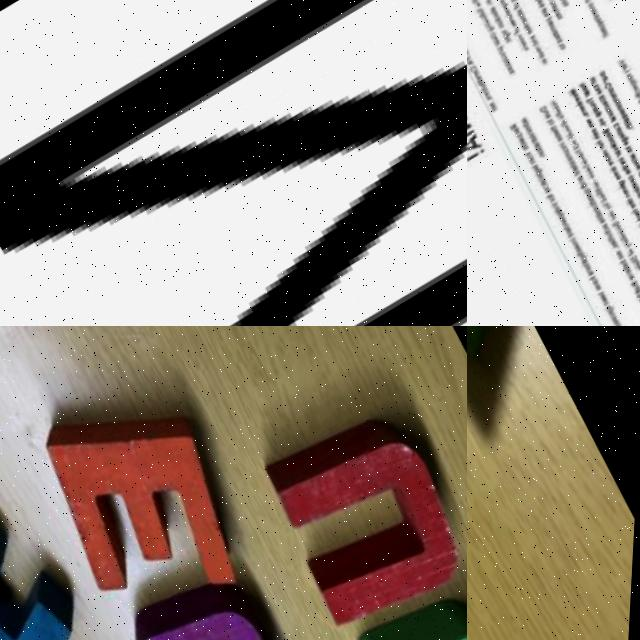A: (467, 134, 487, 161), (469, 60, 479, 69), (618, 151, 627, 160), (625, 119, 634, 127), (597, 281, 605, 289), (581, 178, 589, 186), (606, 226, 614, 234), (581, 155, 589, 163), (495, 41, 504, 48), (598, 213, 607, 220), (626, 241, 635, 248), (593, 131, 602, 138), (542, 8, 551, 15), (586, 92, 595, 99), (524, 120, 532, 127), (532, 35, 540, 42), (552, 6, 560, 13), (537, 144, 545, 150), (613, 118, 621, 124), (586, 261, 593, 267), (543, 181, 550, 187), (506, 11, 513, 17), (540, 53, 547, 59), (519, 11, 526, 17), (633, 156, 640, 162), (467, 44, 470, 52), (637, 214, 640, 221)
B: (586, 167, 596, 176), (606, 130, 615, 139), (549, 2, 558, 11), (601, 293, 611, 301), (579, 105, 589, 113), (624, 262, 633, 270), (600, 216, 609, 224), (519, 13, 527, 21), (607, 206, 615, 212)
C: (606, 85, 617, 94), (471, 66, 481, 75), (595, 182, 604, 190), (615, 125, 624, 133), (607, 229, 616, 236), (631, 177, 640, 184), (491, 33, 499, 40), (495, 16, 503, 23), (621, 231, 629, 238), (607, 107, 615, 114), (566, 149, 573, 155), (614, 143, 621, 149), (636, 90, 640, 98)
D: (603, 200, 614, 209), (602, 34, 613, 43), (566, 225, 575, 234), (534, 41, 543, 50), (558, 41, 567, 50), (524, 123, 534, 131), (543, 108, 552, 116), (570, 136, 579, 144), (584, 185, 592, 193), (467, 51, 474, 59), (558, 209, 566, 216)
E: (24, 377, 277, 640), (599, 288, 608, 296), (556, 132, 565, 140), (494, 12, 503, 20), (619, 179, 628, 187), (626, 192, 635, 200), (623, 66, 632, 74), (629, 77, 638, 85), (560, 212, 568, 220), (522, 139, 530, 147), (579, 246, 587, 254), (604, 221, 612, 229), (560, 138, 568, 146), (590, 196, 598, 204), (615, 243, 623, 251), (623, 257, 631, 265), (492, 7, 500, 15), (511, 20, 519, 28), (575, 95, 583, 103), (546, 14, 554, 22), (630, 173, 638, 181), (601, 98, 609, 106), (569, 229, 578, 236), (476, 4, 485, 11), (494, 38, 503, 45), (627, 267, 636, 274), (619, 228, 628, 235), (626, 144, 635, 151), (599, 92, 608, 99), (623, 116, 632, 123), (602, 31, 611, 38), (517, 129, 525, 136), (536, 168, 544, 175), (564, 219, 572, 226), (605, 296, 613, 303), (607, 300, 615, 307), (630, 272, 638, 279), (575, 168, 583, 175), (548, 115, 556, 122), (589, 170, 597, 177), (555, 104, 562, 112), (584, 162, 592, 169), (590, 173, 598, 180), (529, 30, 537, 37), (591, 127, 599, 134), (582, 109, 590, 116), (585, 88, 593, 95), (539, 1, 547, 8), (605, 103, 613, 110), (623, 137, 631, 144), (633, 278, 640, 285), (597, 185, 604, 192), (528, 28, 535, 35), (593, 12, 600, 19), (557, 38, 565, 44), (494, 106, 501, 112), (624, 237, 631, 243), (603, 197, 610, 203), (523, 44, 530, 50), (524, 20, 531, 26), (634, 207, 640, 214), (612, 164, 619, 170), (550, 22, 557, 28), (635, 87, 640, 94), (618, 322, 625, 326), (608, 0, 617, 3), (497, 0, 505, 2)
F: (598, 142, 608, 149), (550, 195, 558, 203), (632, 253, 640, 261), (516, 32, 524, 40), (515, 6, 523, 14), (477, 9, 485, 16), (528, 153, 536, 159), (634, 211, 640, 219), (601, 194, 608, 200), (593, 84, 600, 89), (636, 96, 640, 103)
G: (109, 553, 323, 640), (624, 139, 634, 148), (613, 309, 622, 318), (622, 182, 631, 191), (538, 170, 548, 178), (584, 257, 593, 265), (505, 34, 514, 41), (503, 3, 512, 10), (512, 0, 522, 5), (490, 29, 497, 35)
H: (628, 127, 639, 135), (564, 124, 573, 133), (578, 152, 588, 160), (581, 85, 591, 93), (594, 278, 603, 286), (473, 1, 482, 9), (631, 203, 640, 210), (598, 89, 606, 96), (507, 38, 514, 45), (627, 169, 634, 176), (555, 130, 562, 136), (636, 286, 640, 292)
I: (467, 130, 479, 145), (530, 135, 541, 143), (598, 191, 609, 199), (612, 242, 623, 249), (627, 270, 637, 277), (622, 186, 632, 193), (535, 0, 546, 6), (582, 255, 590, 262), (610, 307, 618, 314), (538, 149, 546, 156), (614, 171, 622, 178), (553, 31, 561, 38), (483, 90, 492, 96), (586, 265, 595, 271), (611, 238, 620, 244), (500, 3, 509, 9), (573, 239, 581, 245), (529, 131, 537, 137), (594, 204, 601, 210), (543, 60, 550, 66), (505, 59, 511, 65), (486, 24, 492, 30), (505, 33, 511, 39), (563, 144, 569, 150), (540, 175, 546, 181), (635, 189, 640, 196), (480, 82, 486, 87), (556, 204, 562, 209), (507, 64, 513, 69), (572, 162, 578, 167), (611, 235, 617, 240), (498, 20, 504, 25), (541, 56, 547, 61), (621, 160, 627, 165), (546, 0, 554, 2)
K: (0, 505, 130, 640), (597, 137, 606, 146), (614, 146, 621, 152)
L: (541, 179, 549, 186), (602, 219, 610, 226), (480, 15, 489, 21), (569, 135, 578, 141), (480, 14, 488, 20), (628, 269, 636, 275), (602, 102, 610, 108), (627, 123, 635, 129), (492, 36, 499, 42), (621, 135, 627, 141), (621, 133, 627, 139), (634, 159, 640, 165), (554, 11, 561, 16), (635, 160, 640, 167), (536, 166, 542, 171), (559, 114, 565, 119), (543, 57, 549, 62), (614, 122, 620, 127), (553, 10, 560, 14), (493, 11, 499, 15), (561, 0, 568, 3), (561, 0, 567, 1)
M: (0, 0, 467, 326), (571, 90, 582, 100), (605, 152, 614, 161), (537, 48, 546, 56), (617, 173, 625, 182), (596, 109, 605, 117), (487, 0, 495, 8), (578, 100, 586, 108), (613, 94, 621, 102), (532, 161, 541, 168), (528, 127, 536, 134), (616, 99, 623, 107), (554, 28, 561, 35), (636, 184, 640, 193)
N: (467, 116, 476, 139), (582, 181, 591, 189), (487, 92, 495, 100), (609, 303, 617, 311), (614, 313, 622, 321), (577, 171, 585, 179), (557, 206, 566, 213), (568, 155, 577, 162), (592, 177, 601, 184), (619, 108, 628, 115), (575, 242, 583, 249), (565, 223, 573, 230), (591, 270, 599, 277), (542, 154, 550, 161), (510, 68, 518, 75), (564, 146, 572, 153), (597, 209, 605, 216), (574, 142, 582, 149), (505, 8, 513, 15), (533, 39, 541, 46), (628, 196, 636, 203), (623, 161, 631, 168), (571, 233, 578, 240), (503, 29, 510, 36), (531, 133, 539, 139), (500, 25, 508, 31), (525, 23, 533, 29), (477, 73, 484, 79), (488, 26, 495, 31), (545, 63, 552, 68), (547, 0, 555, 4), (467, 48, 471, 55), (510, 0, 517, 2)
O: (611, 213, 620, 221), (631, 251, 640, 259), (553, 197, 561, 205), (590, 267, 598, 275), (596, 206, 604, 214), (515, 28, 523, 36), (609, 111, 617, 119), (610, 89, 618, 97), (545, 185, 554, 192), (551, 122, 560, 129), (498, 22, 507, 29), (575, 145, 584, 152), (601, 145, 610, 152), (611, 139, 620, 146), (592, 79, 601, 86), (619, 129, 628, 136), (630, 151, 639, 158), (475, 70, 483, 77), (531, 156, 539, 163), (483, 16, 491, 23), (480, 11, 488, 18), (567, 152, 575, 159), (519, 38, 527, 45), (514, 4, 522, 11), (609, 135, 617, 142), (602, 74, 610, 81), (618, 104, 626, 111), (589, 5, 597, 12), (502, 53, 509, 60), (568, 129, 575, 136), (609, 158, 616, 165), (598, 21, 605, 28), (615, 317, 623, 323), (508, 65, 516, 71), (562, 47, 570, 53), (555, 12, 563, 18), (486, 91, 493, 97), (541, 151, 548, 157), (634, 181, 640, 188), (563, 0, 570, 6), (636, 162, 640, 170)
P: (468, 56, 477, 64), (548, 18, 557, 26), (602, 26, 611, 34), (562, 216, 571, 223), (499, 47, 508, 54), (633, 83, 640, 92), (599, 114, 607, 121), (601, 23, 609, 30), (485, 0, 494, 2)
Q: (519, 131, 528, 140), (587, 190, 595, 197)
R: (513, 125, 523, 134), (615, 220, 622, 227), (621, 155, 628, 162), (545, 11, 552, 18), (629, 75, 636, 82), (612, 117, 620, 123), (585, 0, 594, 5), (617, 320, 624, 326), (623, 234, 630, 240), (524, 47, 531, 53), (511, 19, 518, 25), (584, 112, 591, 118), (603, 148, 610, 154), (589, 96, 596, 102), (551, 26, 558, 32), (606, 81, 613, 87), (594, 14, 601, 20), (610, 0, 618, 5), (554, 102, 560, 108), (501, 51, 508, 56), (626, 70, 633, 75), (548, 190, 554, 195), (555, 201, 561, 206), (498, 45, 504, 50), (599, 188, 605, 193), (629, 246, 635, 251), (593, 103, 599, 108), (530, 155, 535, 160), (537, 143, 542, 147), (611, 163, 616, 167), (536, 0, 543, 2)
S: (616, 223, 625, 232), (510, 71, 519, 79), (563, 121, 571, 129), (478, 76, 487, 83), (533, 137, 542, 144), (558, 136, 567, 143), (549, 191, 557, 198), (593, 273, 601, 280), (572, 163, 580, 170), (592, 200, 600, 207), (513, 24, 521, 31), (585, 114, 593, 121), (540, 4, 548, 11), (632, 82, 640, 89), (634, 258, 640, 267), (581, 250, 588, 257), (556, 107, 563, 114), (523, 17, 530, 24), (596, 134, 603, 141), (489, 97, 497, 103), (505, 60, 513, 66), (526, 49, 534, 55), (491, 104, 498, 110), (527, 148, 534, 154), (541, 177, 548, 183), (571, 159, 578, 165), (617, 247, 624, 253), (561, 118, 568, 124), (501, 0, 508, 6), (604, 124, 611, 130), (558, 17, 565, 23), (565, 5, 572, 11), (596, 17, 603, 23), (525, 144, 531, 149)
T: (536, 147, 547, 154), (572, 235, 580, 243), (628, 147, 636, 155), (493, 109, 502, 116), (592, 202, 601, 209), (624, 239, 633, 246), (586, 263, 594, 270), (581, 253, 589, 260), (534, 140, 542, 147), (578, 174, 586, 181), (577, 148, 585, 155), (589, 100, 597, 107), (560, 45, 568, 52), (628, 124, 636, 131), (587, 1, 595, 8), (598, 190, 607, 196), (496, 18, 503, 25), (507, 14, 514, 21), (544, 183, 552, 189), (609, 233, 617, 239), (613, 241, 621, 247), (521, 42, 529, 48), (630, 201, 638, 207), (613, 169, 621, 175), (554, 34, 562, 40), (625, 167, 633, 173), (607, 110, 615, 116), (483, 88, 490, 94), (481, 83, 488, 89), (550, 121, 557, 127), (574, 166, 581, 172), (508, 41, 515, 47), (526, 26, 533, 32), (556, 15, 563, 21), (596, 86, 603, 92), (564, 2, 571, 8), (596, 20, 603, 26), (472, 0, 480, 5), (479, 80, 485, 86), (556, 35, 562, 41), (525, 147, 532, 152), (635, 283, 640, 289), (554, 128, 560, 133), (560, 116, 566, 121), (536, 0, 543, 4), (636, 94, 640, 101), (637, 263, 640, 268)
U: (245, 381, 467, 640), (594, 105, 602, 113), (520, 136, 529, 143), (588, 193, 597, 200), (557, 111, 566, 118), (568, 132, 577, 139), (546, 112, 554, 119), (604, 77, 612, 84), (483, 84, 490, 91), (614, 217, 621, 224), (510, 17, 516, 22), (584, 0, 593, 3)
V: (618, 62, 629, 72), (582, 158, 591, 166), (617, 148, 625, 156), (631, 275, 640, 282), (598, 286, 606, 293), (602, 120, 610, 127), (625, 189, 632, 196), (577, 245, 584, 251), (504, 56, 511, 62), (612, 236, 619, 242), (592, 9, 598, 15), (518, 36, 525, 41)
W: (620, 253, 629, 261), (589, 121, 597, 129), (622, 112, 630, 120), (485, 20, 493, 27), (638, 167, 640, 174)
Y: (609, 208, 618, 216), (630, 246, 638, 253), (627, 72, 634, 78)
